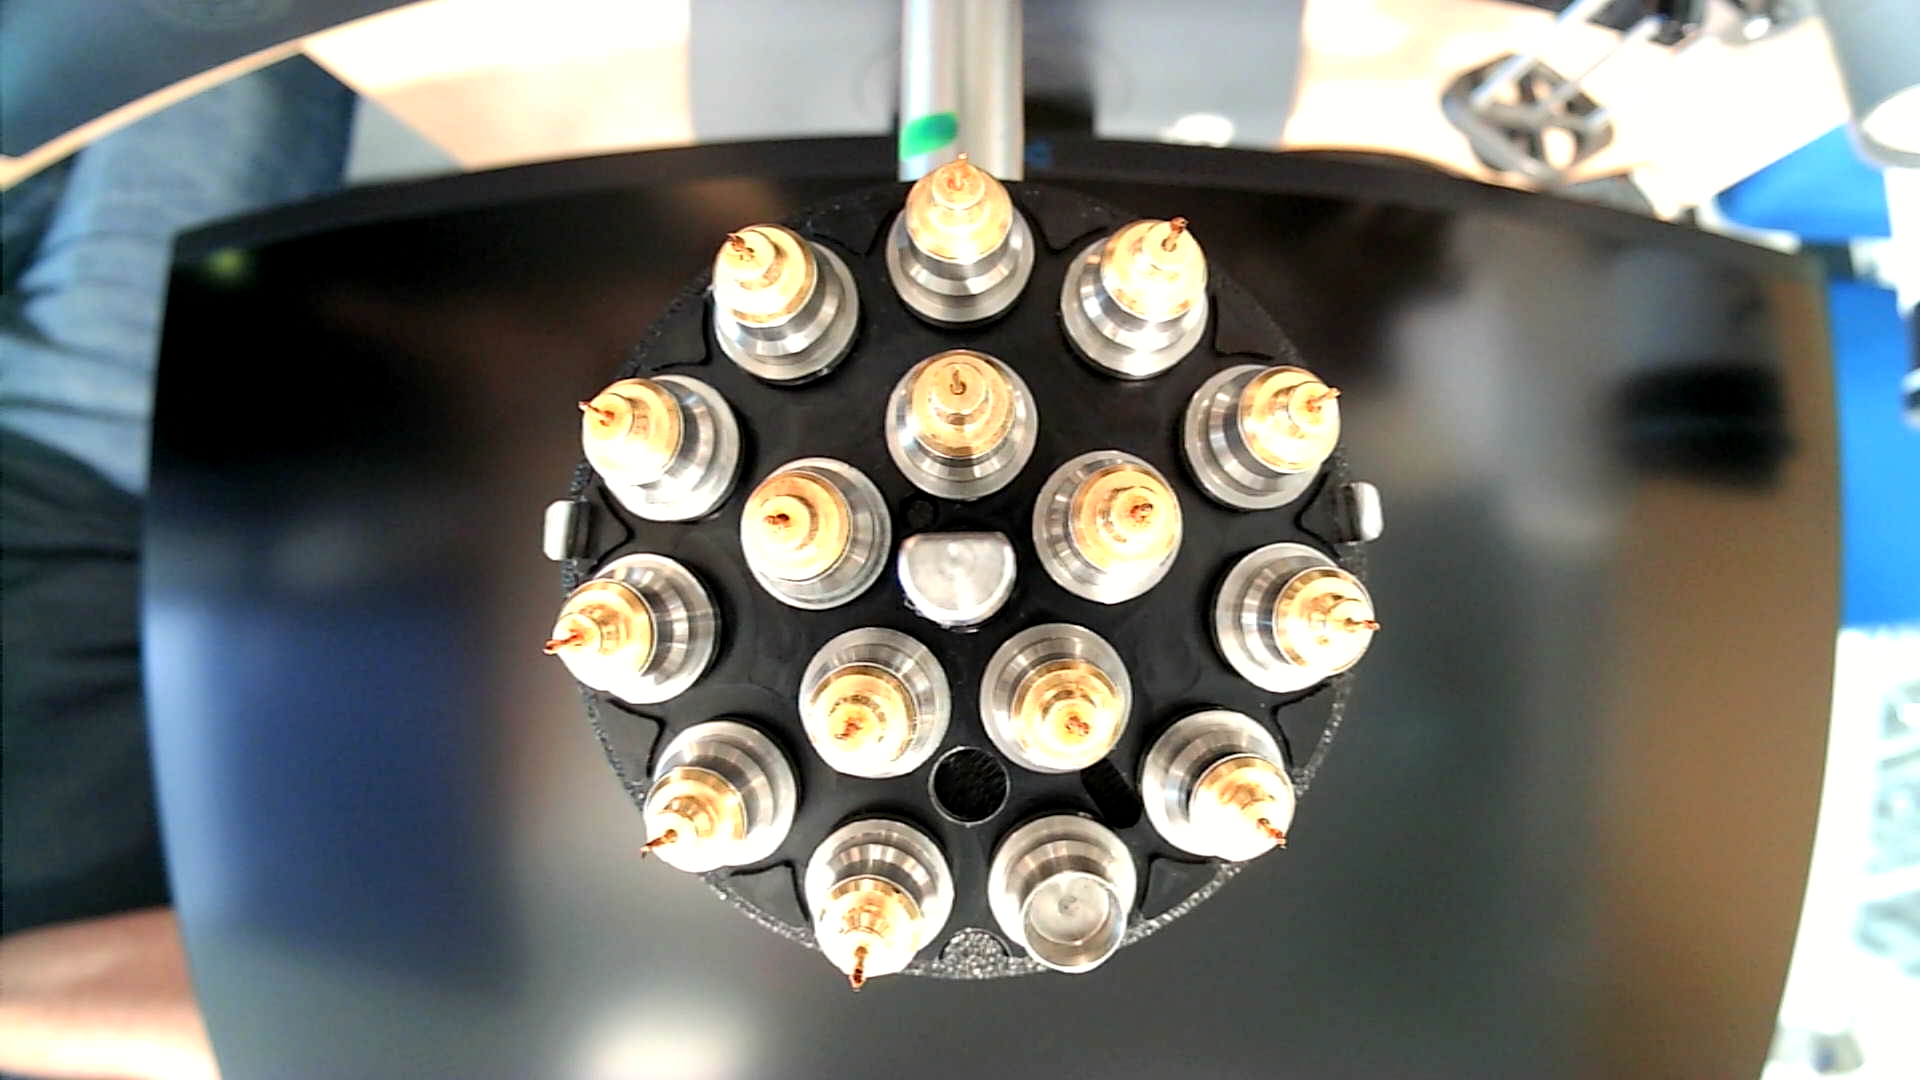adapter: (985, 808, 1139, 978)
hole: (926, 742, 1015, 833)
pin: (799, 811, 956, 993), (541, 549, 725, 703), (1208, 541, 1379, 698), (884, 152, 1036, 327), (636, 716, 800, 878), (574, 369, 742, 527), (709, 222, 865, 392), (1062, 214, 1213, 385), (1135, 707, 1298, 866), (793, 625, 952, 782), (882, 345, 1042, 502), (1178, 361, 1340, 514), (1030, 446, 1184, 605), (737, 452, 891, 612), (978, 620, 1134, 777)
rod: (894, 526, 1018, 637)
